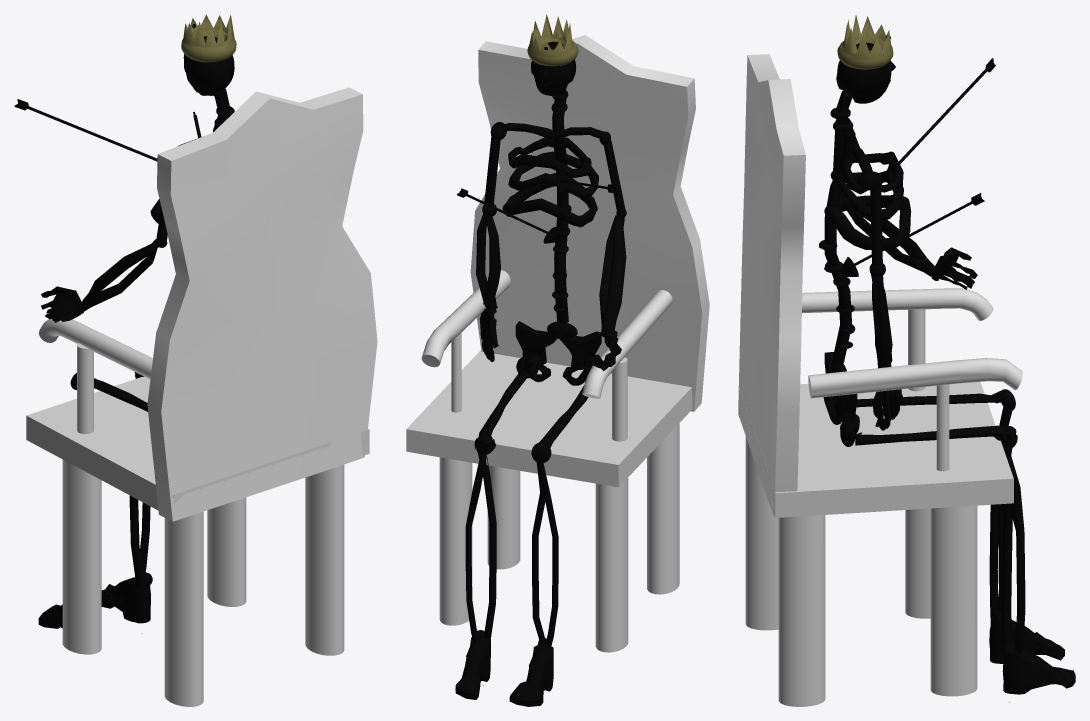
The model's file is throne.fbx.
The picture shows the model from 3 angles, left to right: view 1: azimuth 30°, elevation 25°; view 2: azimuth 150°, elevation 25°; view 3: azimuth 270°, elevation 25°; orthographic projection. The views are drawn at different scales.
Visible parts, largest first — view 1: polySurface402, pasted__arrow, polySurface406, polySurface399, polySurface403, polySurface407, polySurface404, polySurface398, polySurface408; view 2: polySurface402, pasted__arrow, polySurface406, polySurface403, polySurface399, polySurface404, polySurface407, polySurface398, polySurface401, polySurface408, polySurface405; view 3: pasted__arrow, polySurface402, polySurface406, polySurface407, polySurface404, polySurface401, polySurface399, polySurface398, polySurface403, polySurface405, polySurface408.
Boxes of the visible parts, x1=… form: polySurface402: x1=147, y1=87, x2=377, y2=521; pasted__arrow: x1=14, y1=14, x2=236, y2=628; polySurface406: x1=26, y1=376, x2=369, y2=510; polySurface399: x1=164, y1=511, x2=203, y2=706; polySurface403: x1=62, y1=459, x2=101, y2=654; polySurface407: x1=305, y1=464, x2=344, y2=655; polySurface404: x1=207, y1=497, x2=246, y2=606; polySurface398: x1=39, y1=318, x2=152, y2=379; polySurface408: x1=77, y1=343, x2=93, y2=433; polySurface402: x1=470, y1=35, x2=709, y2=411; pasted__arrow: x1=455, y1=14, x2=626, y2=706; polySurface406: x1=406, y1=350, x2=692, y2=487; polySurface403: x1=595, y1=477, x2=628, y2=652; polySurface399: x1=647, y1=423, x2=679, y2=594; polySurface404: x1=439, y1=457, x2=472, y2=625; polySurface407: x1=487, y1=465, x2=520, y2=569; polySurface398: x1=582, y1=290, x2=672, y2=398; polySurface401: x1=421, y1=270, x2=510, y2=367; polySurface408: x1=612, y1=357, x2=627, y2=441; polySurface405: x1=451, y1=332, x2=461, y2=412; pasted__arrow: x1=819, y1=15, x2=1075, y2=702; polySurface402: x1=738, y1=54, x2=805, y2=517; polySurface406: x1=739, y1=382, x2=1013, y2=517; polySurface407: x1=778, y1=515, x2=825, y2=706; polySurface404: x1=930, y1=505, x2=977, y2=696; polySurface401: x1=808, y1=358, x2=1022, y2=398; polySurface399: x1=745, y1=436, x2=778, y2=630; polySurface398: x1=802, y1=288, x2=993, y2=320; polySurface403: x1=905, y1=508, x2=930, y2=618; polySurface405: x1=936, y1=384, x2=949, y2=471; polySurface408: x1=908, y1=309, x2=925, y2=391.
Size of the model in its own units: 0.9806 by 2.47 by 1.11.
